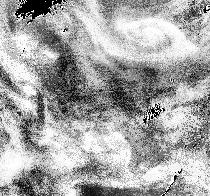CE: (113, 15, 191, 68)
